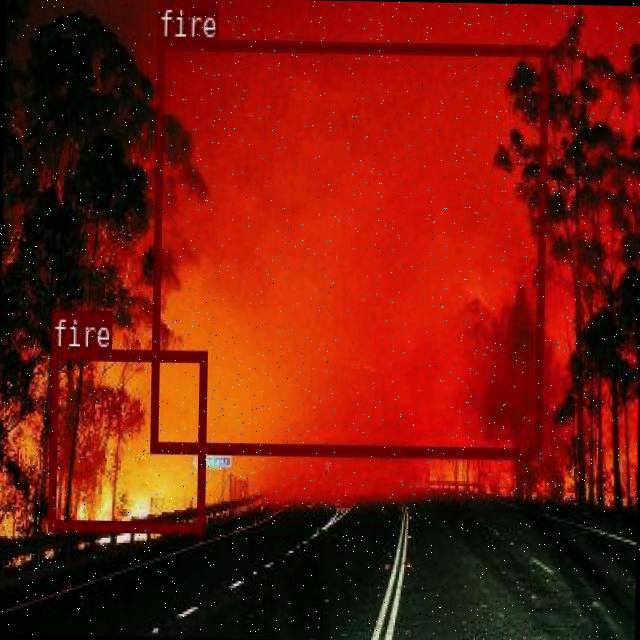fire: (150, 36, 547, 458), (47, 346, 205, 532)
